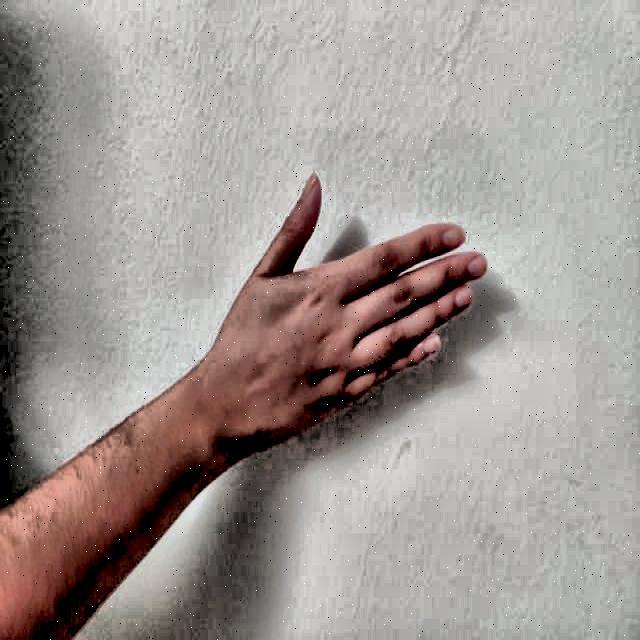Aa: (201, 169, 502, 486)
